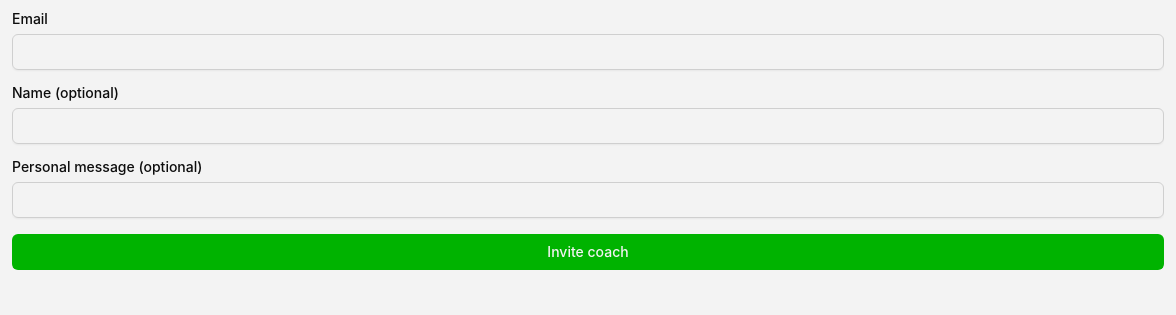
InviteCoachForm › does not validate on keystroke, only on submit
In the field labelled "Email": (588, 52) [12, 34, 1164, 70], type "not-an-email"
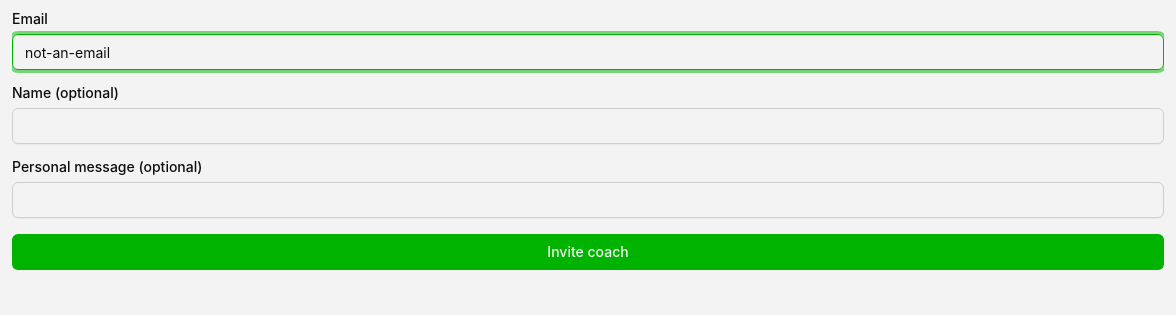
Expected: the text "invalid email" is not shown
Click the button "Invite coach": (588, 252) [12, 234, 1164, 270]
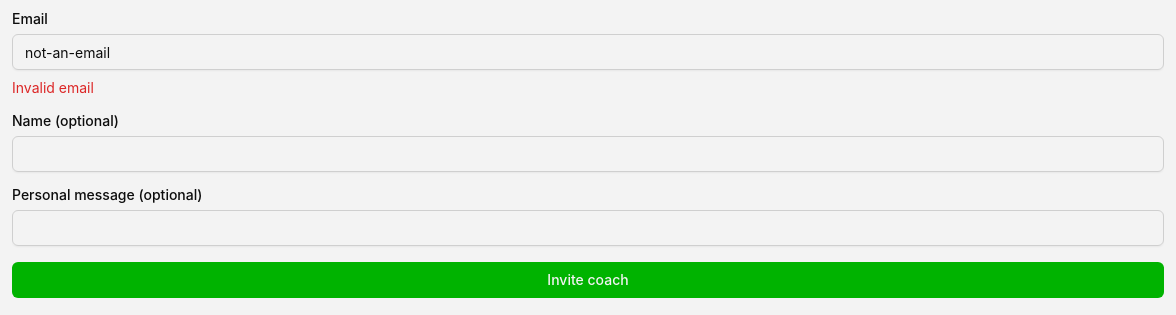
Expected: the text "Invalid email" is shown, [12, 79, 94, 96]
